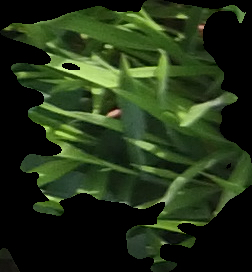grass: (1, 1, 251, 271)
